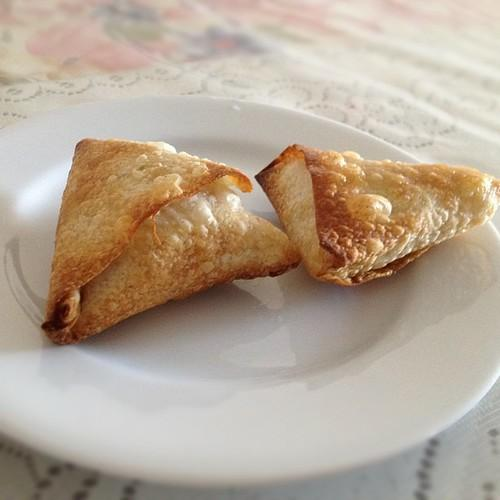Samosa: (42, 137, 295, 348), (253, 145, 500, 285)
